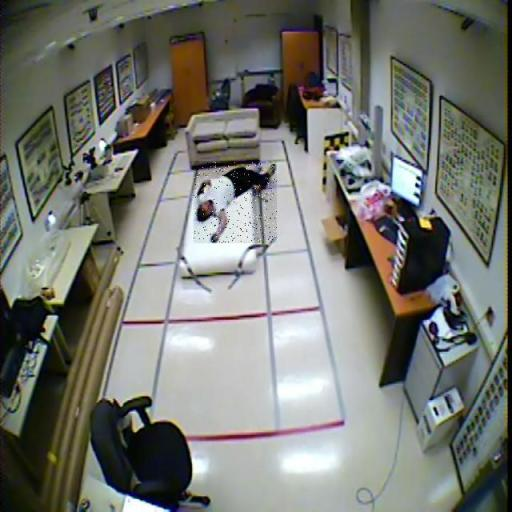Fall: (195, 161, 278, 243)
